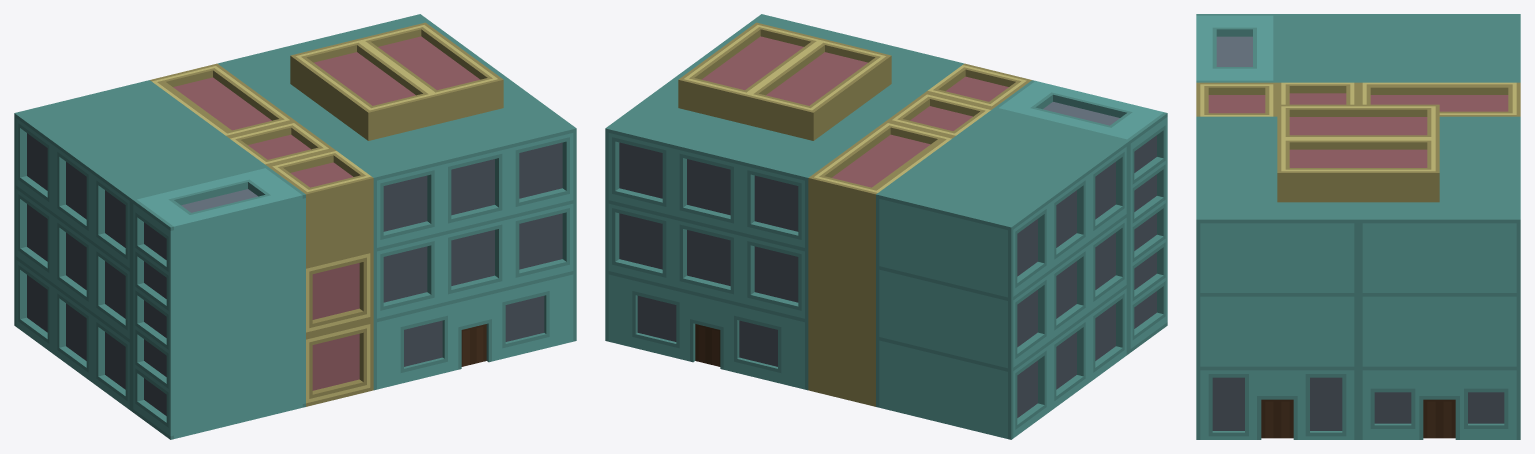
The model's file is Buildings_01-1.obj.
The picture shows the model from 3 angles, left to right: view 1: azimuth 30°, elevation 25°; view 2: azimuth 150°, elevation 25°; view 3: azimuth 270°, elevation 25°; orthographic projection. The views are drawn at different scales.
Size of the model in its own units: 12 by 6.8 by 8.
Materials: 1 (1 with a texture image).
